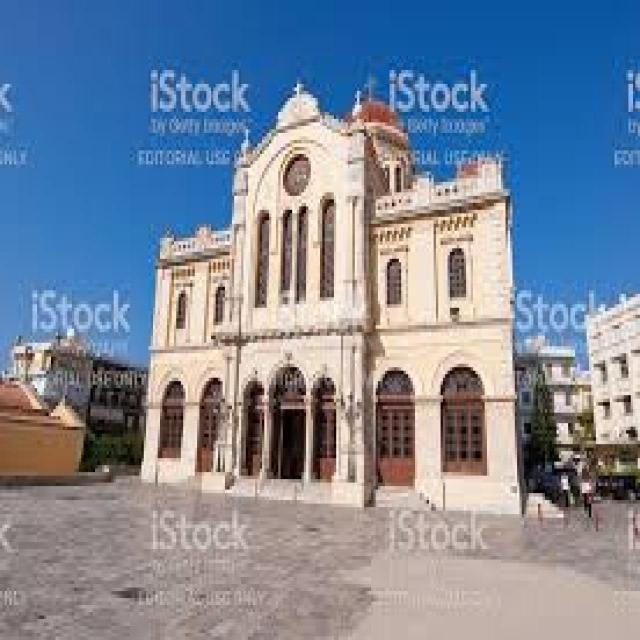Agios Minas: (138, 78, 532, 516)
